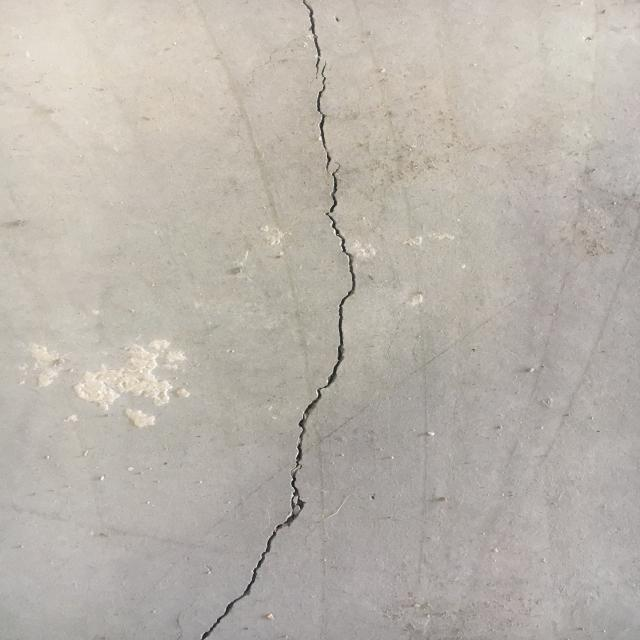Rachadura: (240, 0, 356, 600), (201, 600, 237, 640)
